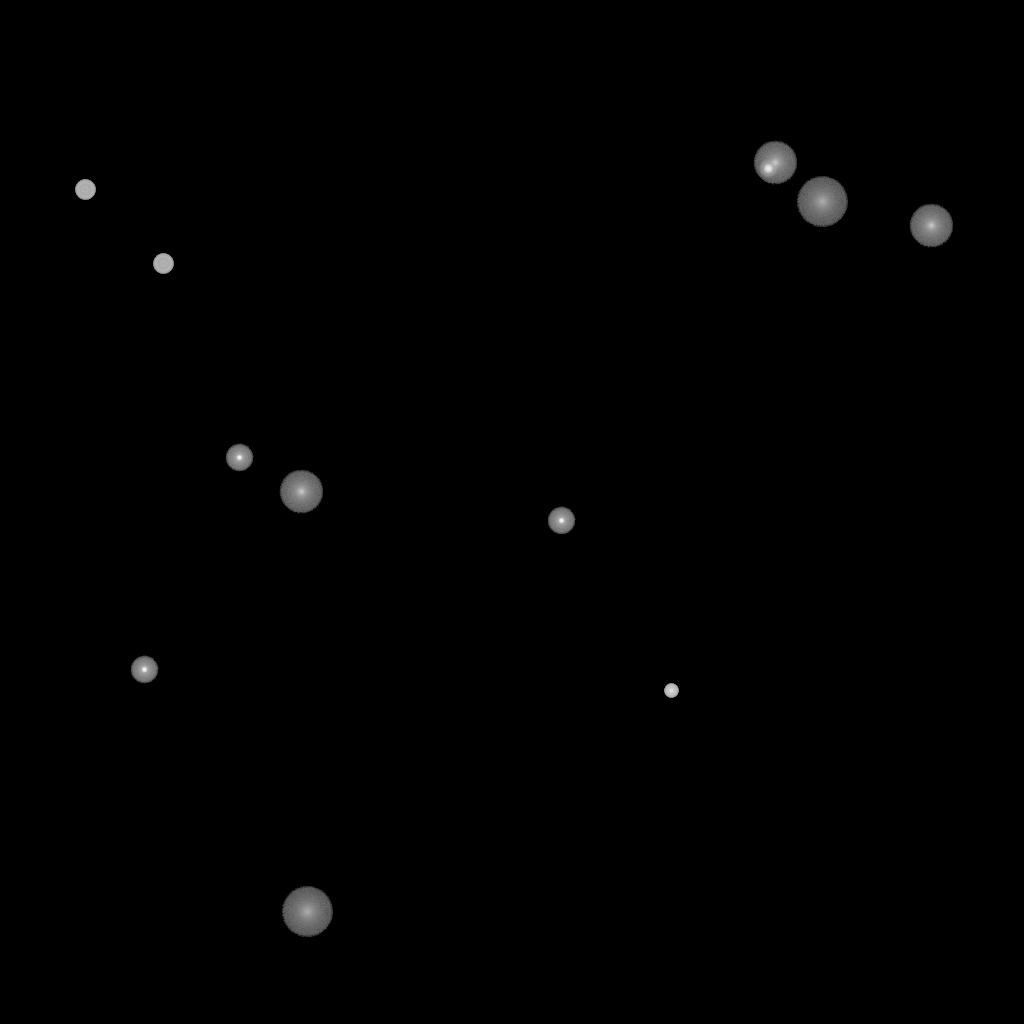depth:-10: (225, 444, 253, 472), (547, 507, 575, 535), (130, 656, 158, 684)
depth:-20: (759, 160, 777, 178)
depth:-30: (664, 684, 678, 698)
depth:-40: (153, 254, 173, 274), (75, 180, 95, 200)
depth:10: (753, 141, 797, 185), (909, 204, 953, 248), (279, 470, 323, 514)
depth:20: (281, 887, 333, 937), (796, 177, 848, 227)
